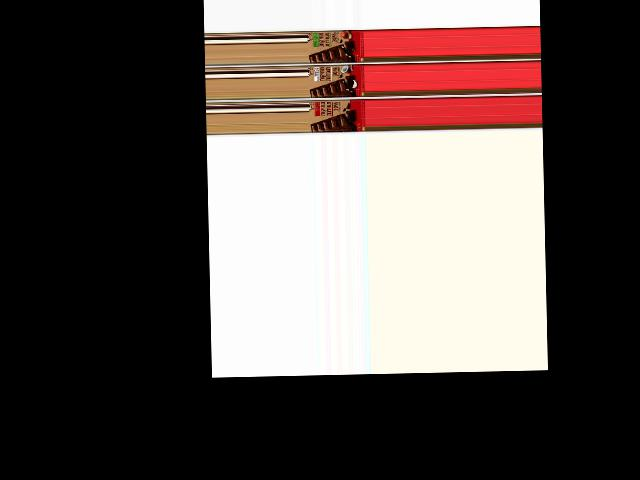chocolate: (308, 28, 364, 62)
